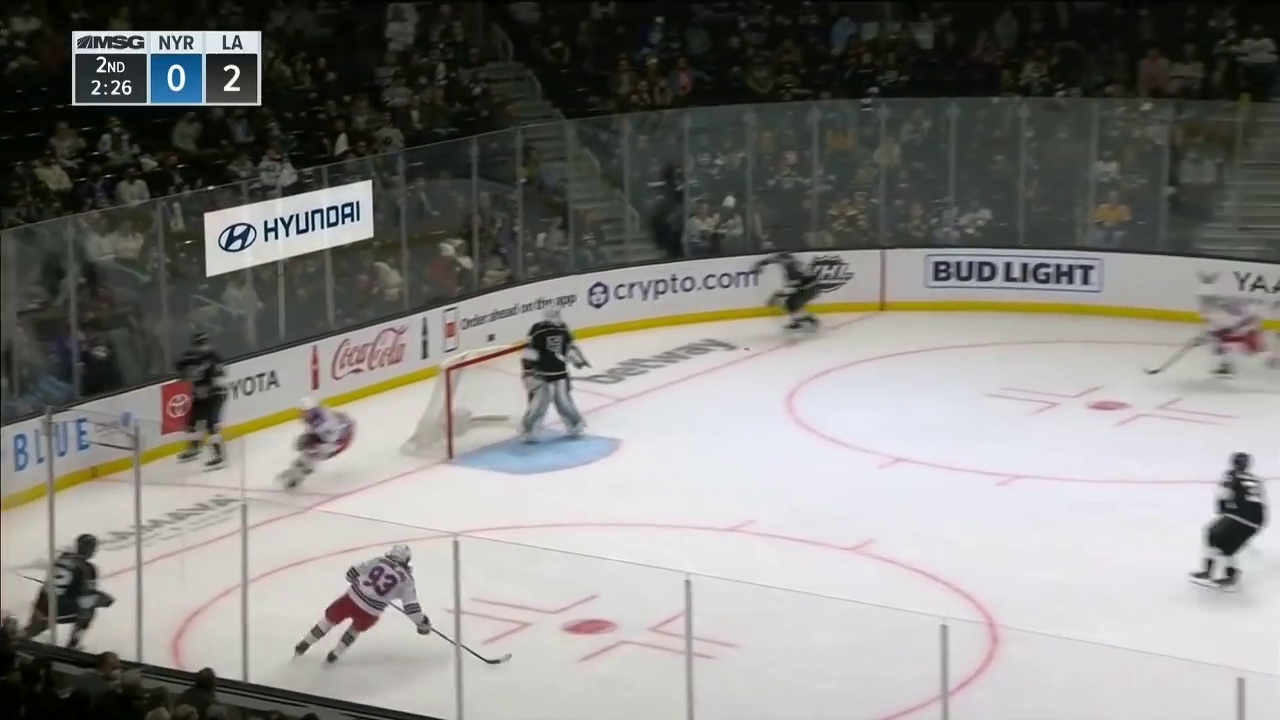goalie: (519, 304, 590, 444)
hockeyplayer: (294, 543, 430, 664), (1189, 452, 1269, 592), (23, 534, 115, 648), (1194, 284, 1280, 380), (275, 397, 356, 489), (176, 333, 227, 471), (753, 250, 819, 330)
